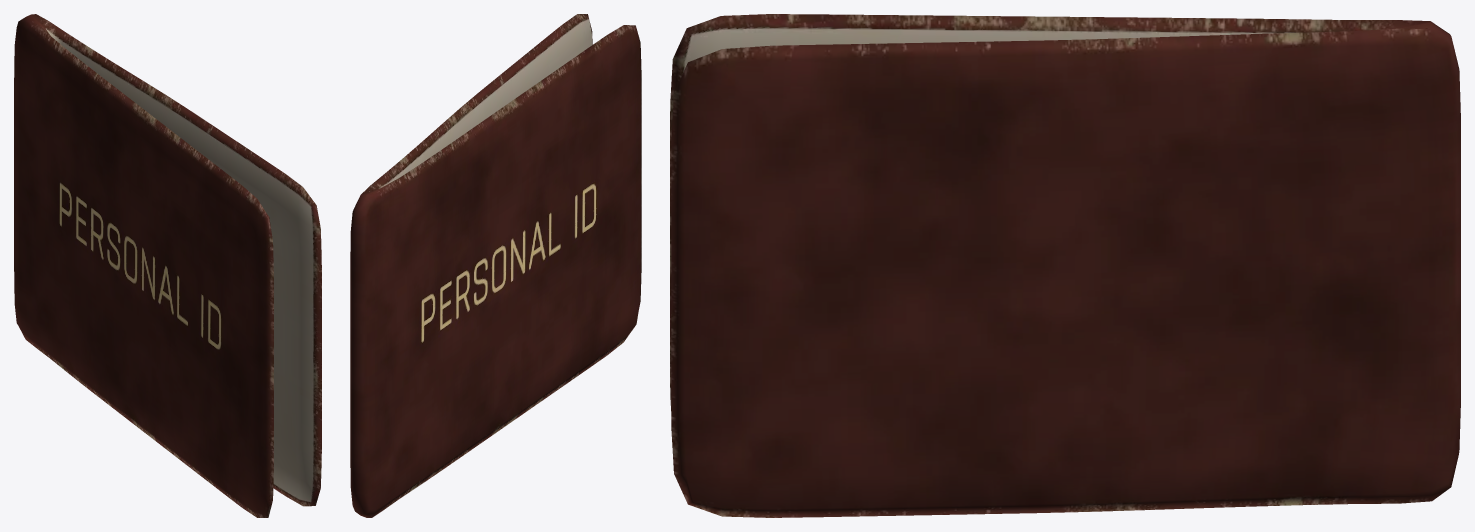
Rendered from Passport-transformed.glb.
3 views of the same model, side by side, from view 1: azimuth 30°, elevation 25°; view 2: azimuth 150°, elevation 25°; view 3: azimuth 270°, elevation 25° (orthographic). The views are drawn at different scales.
Parts seen in each view (by area): view 1: Cube_Material_0; view 2: Cube_Material_0; view 3: Cube_Material_0.
Part boxes in pixels (x1=…): Cube_Material_0: x1=14, y1=14, x2=321, y2=517; Cube_Material_0: x1=350, y1=14, x2=641, y2=517; Cube_Material_0: x1=670, y1=14, x2=1460, y2=517.
Bounding box in the file's own units: 1.82 × 9.87 × 14.89.
1 material, 1 textured.
